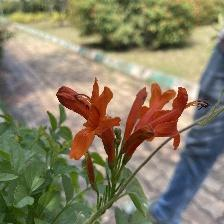honeysuckle: (126, 88, 212, 159)
